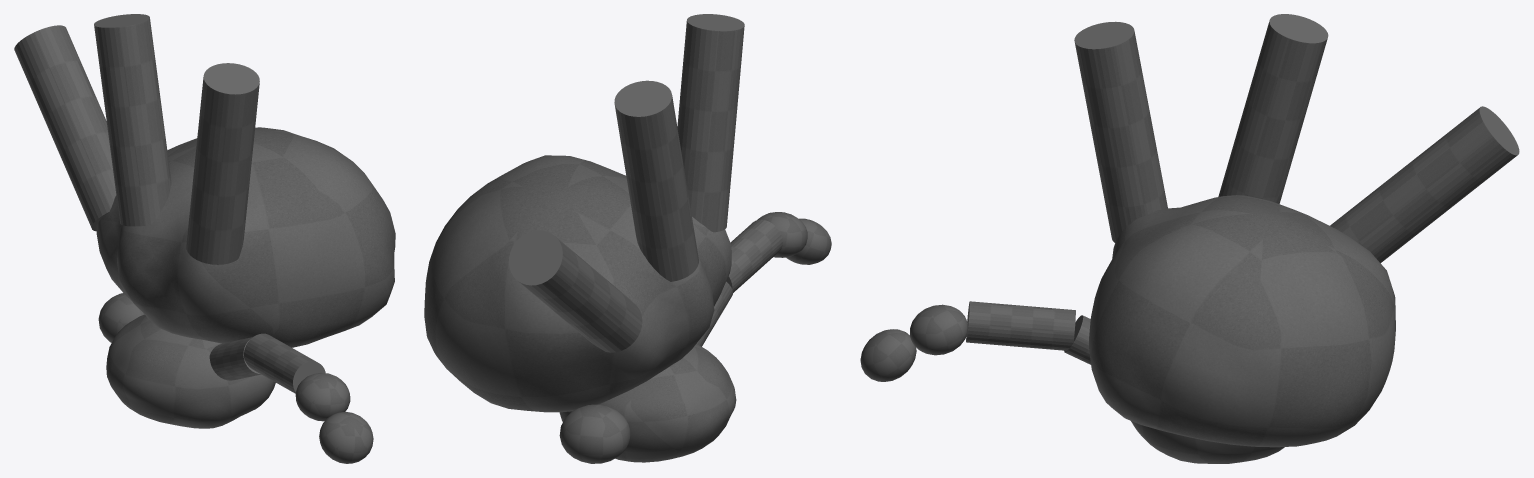
The model's file is polymerase_complex_B.gltf.
3 views of the same model, side by side, from view 1: azimuth 30°, elevation 25°; view 2: azimuth 150°, elevation 25°; view 3: azimuth 270°, elevation 25° (orthographic). The views are drawn at different scales.
Parts seen in each view (by area): view 1: polymerase_complex_B; view 2: polymerase_complex_B; view 3: polymerase_complex_B.
Part boxes in pixels (x1,y1,x2,y2): polymerase_complex_B: (14, 14, 395, 463); polymerase_complex_B: (424, 14, 831, 463); polymerase_complex_B: (860, 14, 1519, 463).
Size of the model in its own units: 2.45 by 3.39 by 4.86.
1 material, 1 textured.
